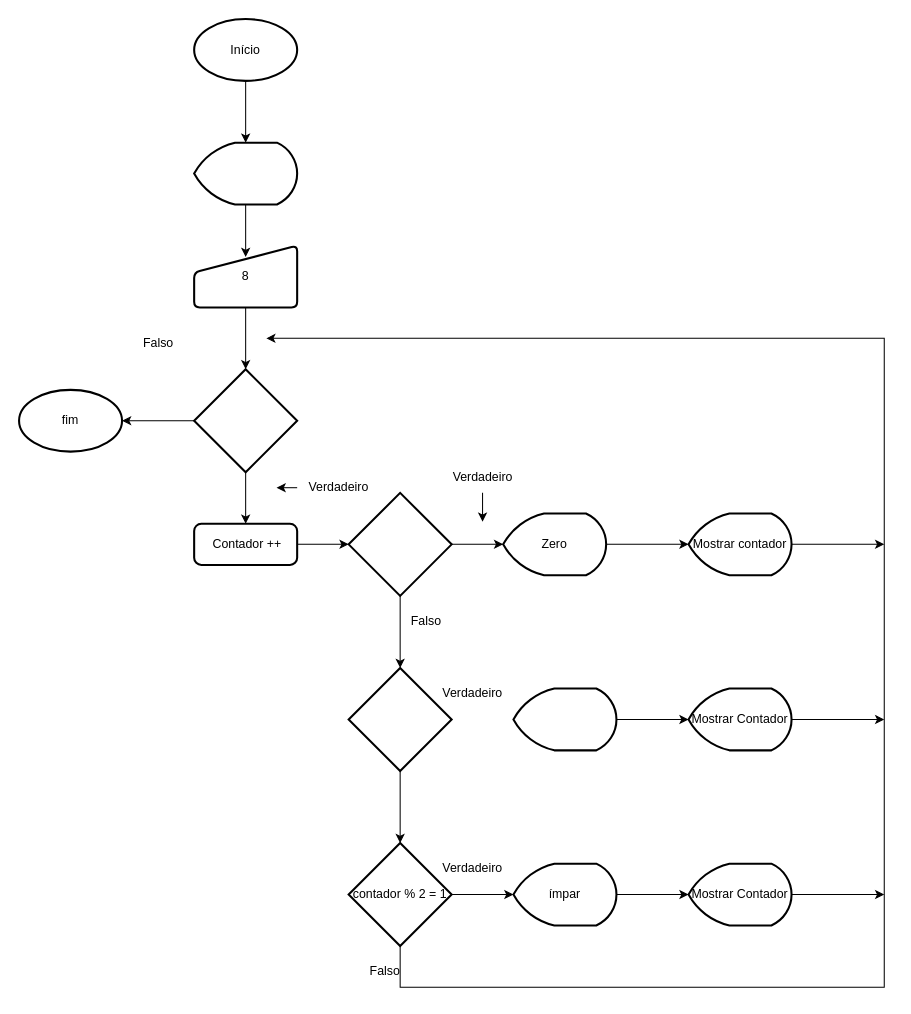
Image size: 911x1014. Some labels were removed from this diagram. The centre of each missing label's shape, as x and y in pixels:
"contador % 2 = 0" belongs at (x=399, y=718).
"contador (0) <= 8" belongs at (x=245, y=420).
"contador = 0" belongs at (x=399, y=543).
"Insira a quantidade de alunos na sala de aula ?" belongs at (x=245, y=173).
"par" belongs at (x=564, y=719).
